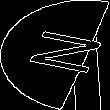N_E: (9, 28, 101, 82)
